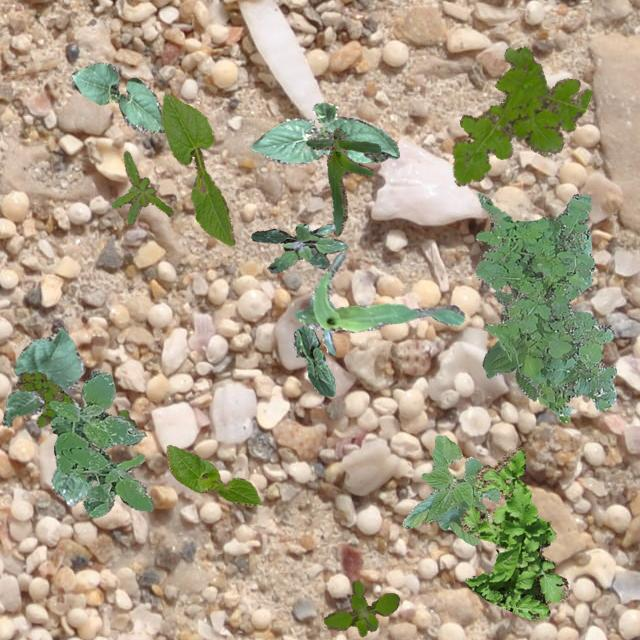crop: (294, 252, 463, 354), (160, 93, 233, 245), (402, 434, 499, 544), (251, 101, 398, 162), (1, 326, 84, 426), (306, 127, 380, 235), (70, 62, 164, 132), (482, 290, 536, 400), (166, 444, 260, 506), (292, 324, 334, 396), (51, 466, 94, 506)
weed: (474, 192, 616, 422), (452, 46, 590, 186), (461, 450, 568, 620), (48, 369, 154, 516), (15, 370, 134, 426), (250, 222, 346, 272), (110, 150, 172, 224), (322, 580, 398, 636)
